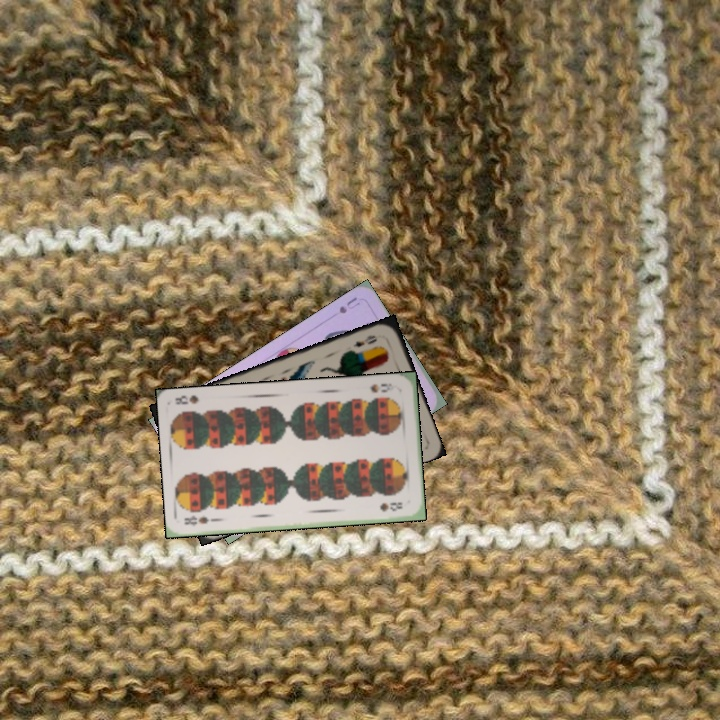EO: (349, 331, 379, 350)
S8: (180, 511, 221, 529), (367, 379, 400, 395)
SU: (335, 293, 363, 316)
